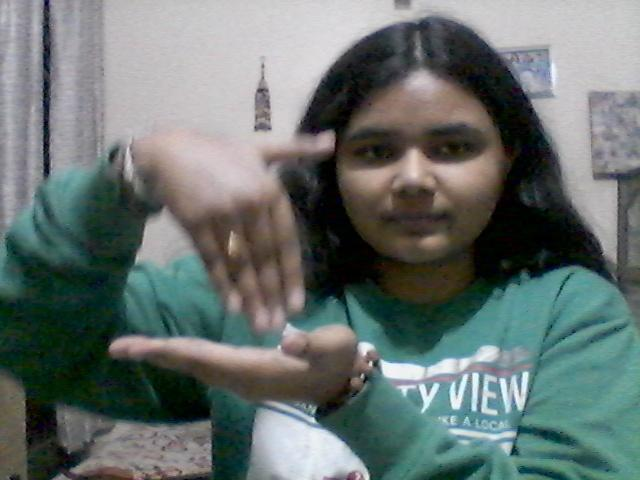repeat: (99, 119, 369, 408)
